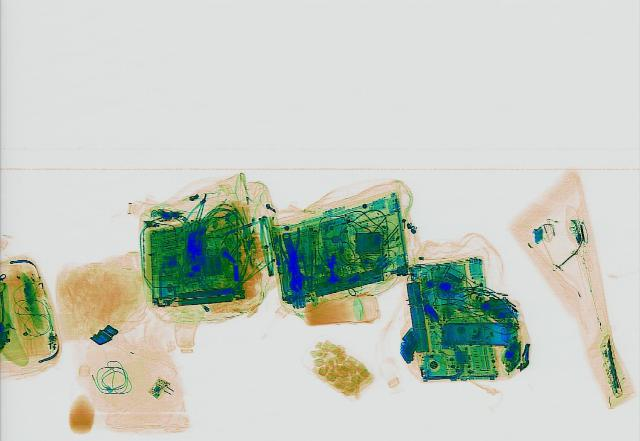Wrench: (274, 230, 312, 293)
